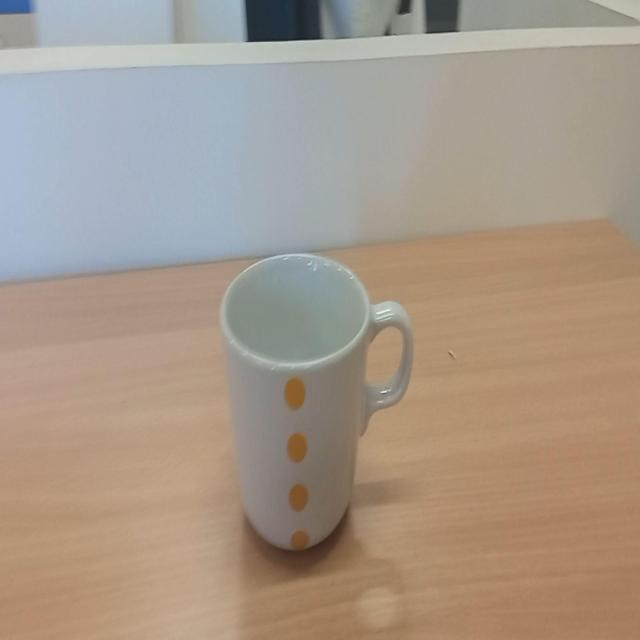cup: (218, 255, 414, 559)
